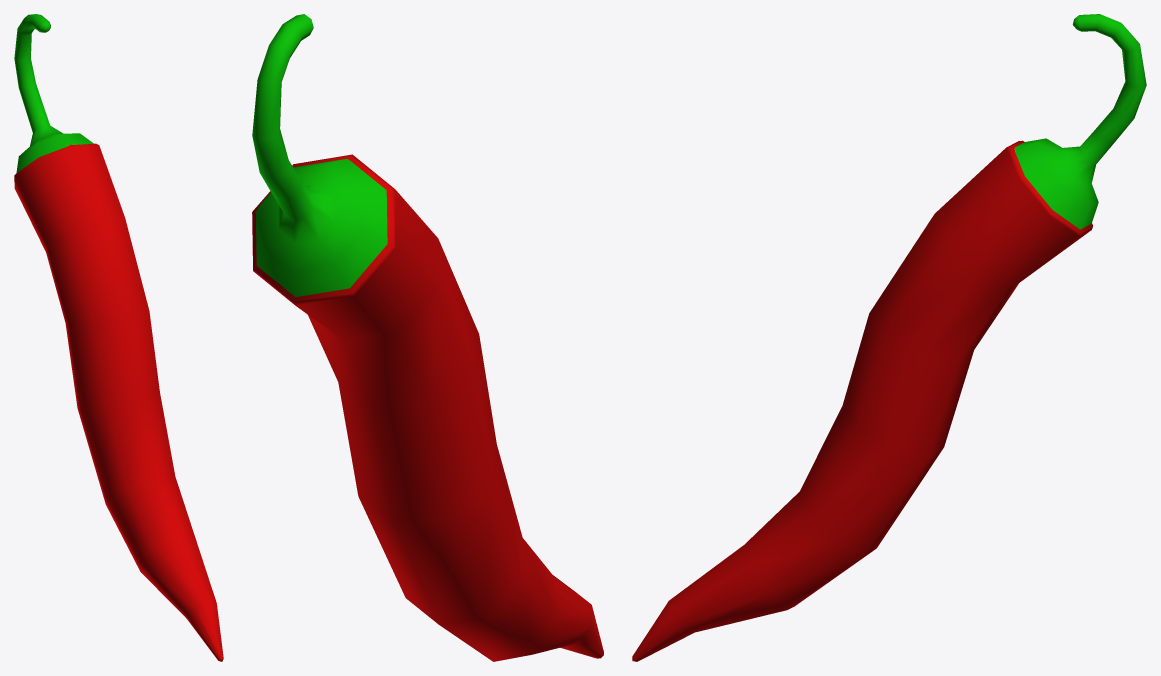
The model's file is chili.fbx.
The picture shows the model from 3 angles, left to right: view 1: azimuth 30°, elevation 25°; view 2: azimuth 150°, elevation 25°; view 3: azimuth 270°, elevation 25°; orthographic projection. The views are drawn at different scales.
Parts seen in each view (by area): view 1: pCube1; view 2: pCube1; view 3: pCube1.
Part boxes in pixels (<box>): pCube1: <box>14,14,223,661</box>; pCube1: <box>252,14,603,661</box>; pCube1: <box>632,14,1146,661</box>.
Size of the model in its own units: 1.01 by 5.78 by 4.17.
1 material, 1 textured.
